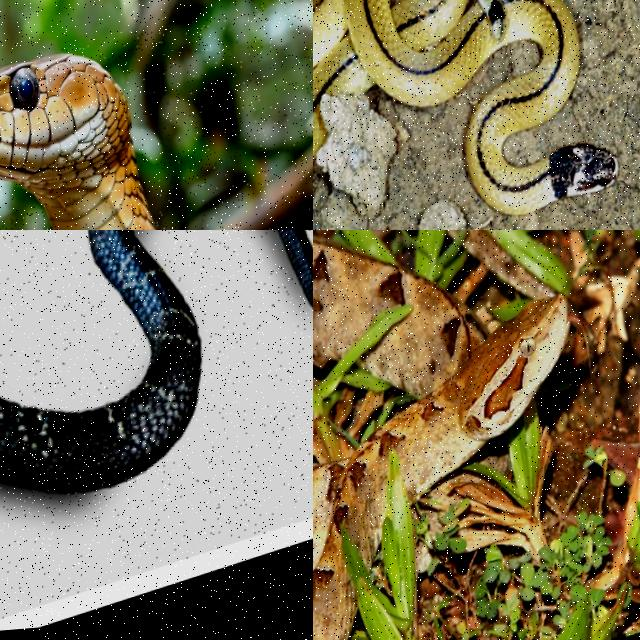Calliophis maculiceps: (313, 0, 616, 214)
Calloselasma rhodostoma: (313, 230, 569, 639)
Naja siamensis: (0, 230, 200, 492), (0, 54, 153, 229)
snake: (313, 230, 569, 639), (313, 0, 616, 214), (0, 230, 200, 492), (0, 54, 153, 229)
